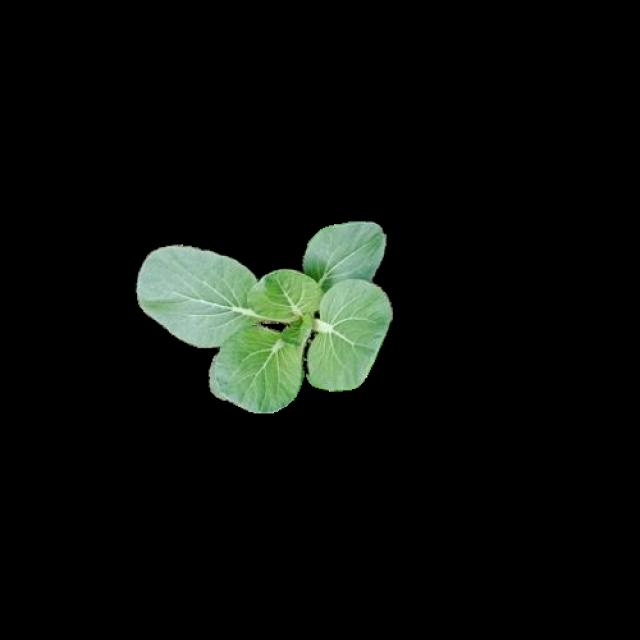healthy: (137, 219, 393, 416)
not-mature: (136, 222, 392, 418)
